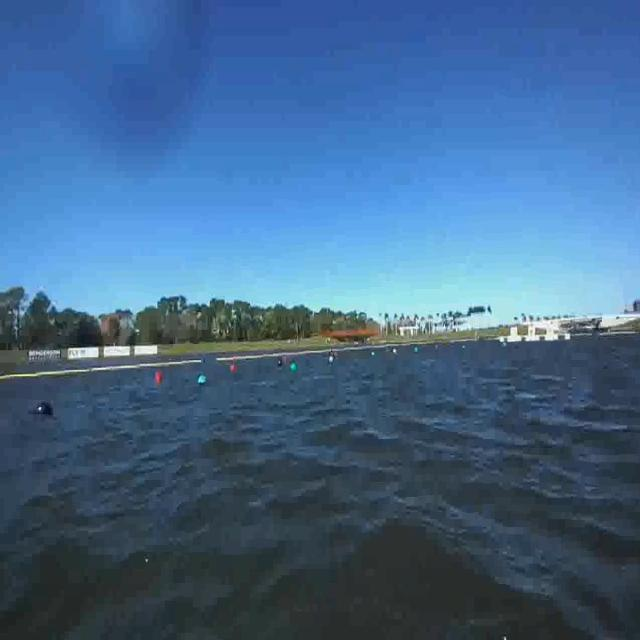black-buoy: (32, 402, 54, 418)
green-buoy: (197, 372, 208, 390), (290, 362, 297, 372)
red-buoy: (151, 371, 165, 384)
